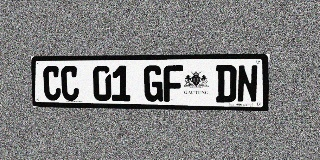0: (93, 66, 111, 101)
1: (112, 65, 130, 101)
C: (43, 66, 61, 101), (61, 66, 79, 101)
D: (216, 65, 237, 103)
F: (164, 65, 183, 102)
G: (144, 65, 163, 102)
N: (237, 65, 258, 103)
